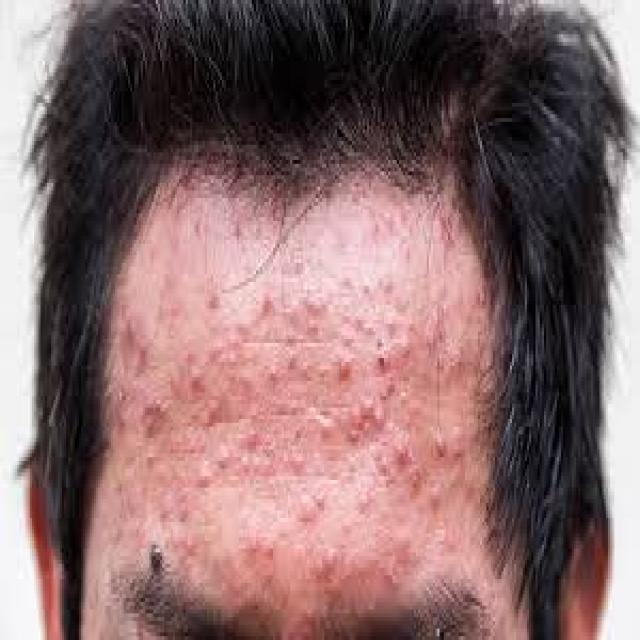Acne: (122, 256, 456, 515)
